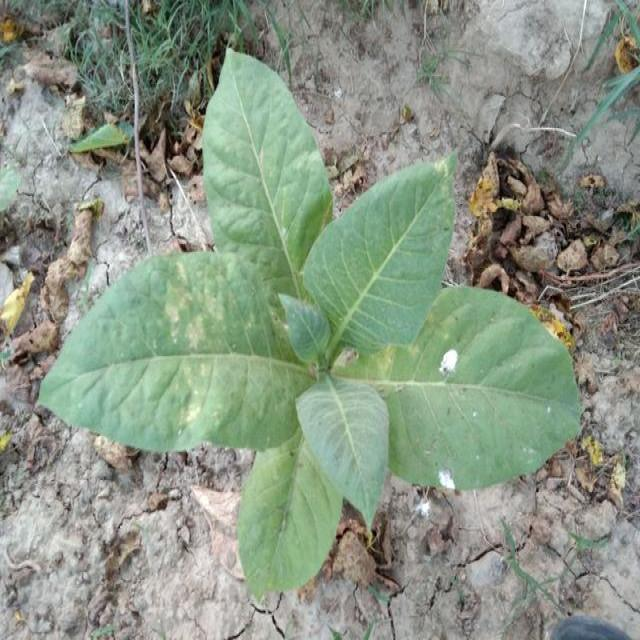crop: (34, 43, 587, 601)
